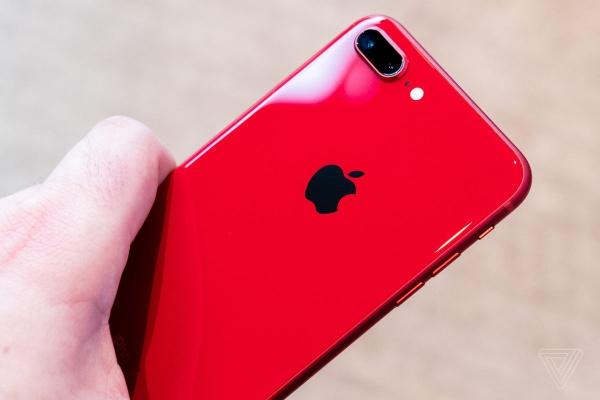apple: (298, 154, 377, 217)
